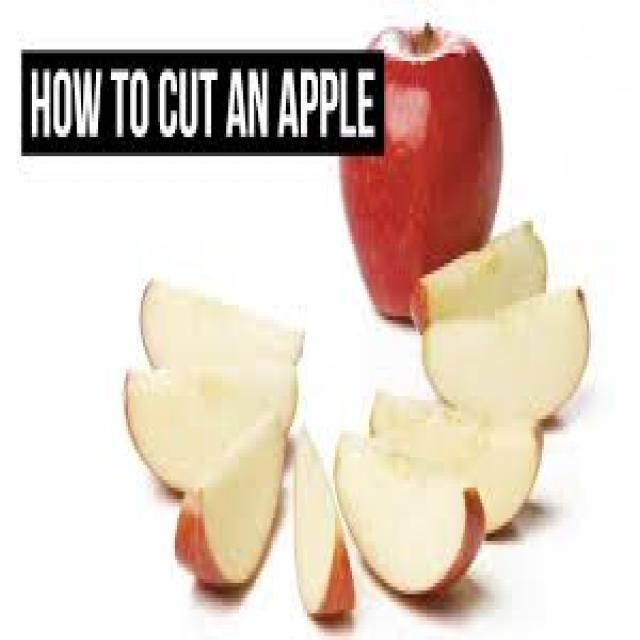Apple: (385, 40, 505, 318), (371, 390, 558, 546), (329, 446, 492, 598), (174, 428, 286, 588), (123, 364, 300, 458), (420, 319, 612, 405), (142, 276, 307, 374), (403, 221, 546, 328), (283, 437, 361, 616)
